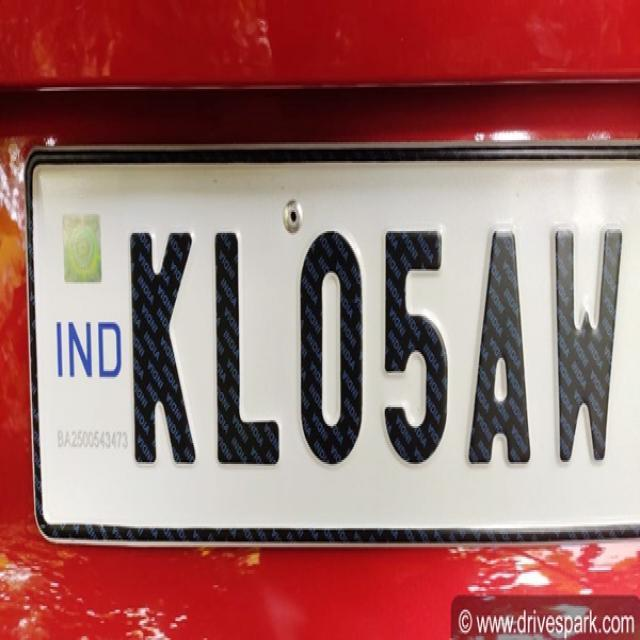License_Plate: (24, 149, 640, 532)
